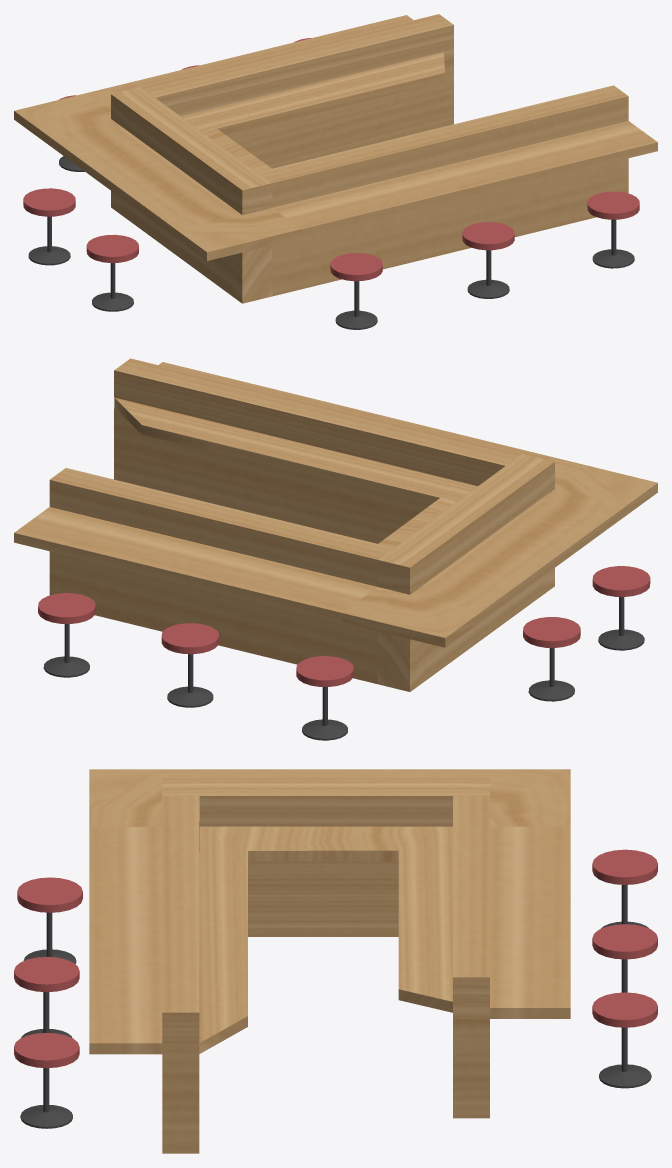
Rendered from counter_table_syuusei.fbx.
3 views of the same model, one above another, from view 1: azimuth 30°, elevation 25°; view 2: azimuth 150°, elevation 25°; view 3: azimuth 270°, elevation 25° (orthographic). The views are drawn at different scales.
Visible parts, largest first — view 1: pCube158, pCylinder96, pCylinder81, pCylinder95, pCylinder98, pCylinder97; view 2: pCube158, pCylinder98, pCylinder101, pCylinder97, pCylinder99, pCylinder100; view 3: pCube158, pCylinder101, pCylinder96, pCylinder81, pCylinder95, pCylinder99, pCylinder100.
Part boxes in pixels (x1,y1,x2,y2): pCube158: [14, 14, 657, 303]; pCylinder96: [587, 191, 639, 268]; pCylinder81: [330, 253, 382, 329]; pCylinder95: [462, 222, 514, 298]; pCylinder98: [86, 234, 138, 311]; pCylinder97: [23, 188, 75, 265]; pCube158: [14, 358, 657, 691]; pCylinder98: [592, 566, 650, 650]; pCylinder101: [38, 593, 95, 677]; pCylinder97: [523, 617, 580, 701]; pCylinder99: [296, 656, 353, 740]; pCylinder100: [161, 623, 218, 707]; pCube158: [89, 769, 570, 1153]; pCylinder101: [592, 992, 657, 1088]; pCylinder96: [14, 1033, 79, 1128]; pCylinder81: [17, 877, 82, 963]; pCylinder95: [14, 957, 79, 1037]; pCylinder99: [592, 849, 657, 928]; pCylinder100: [592, 924, 657, 992].
Bounding box in the file's own units: 4.87 × 1.06 × 4.32.
Materials: 2 (2 with a texture image).
